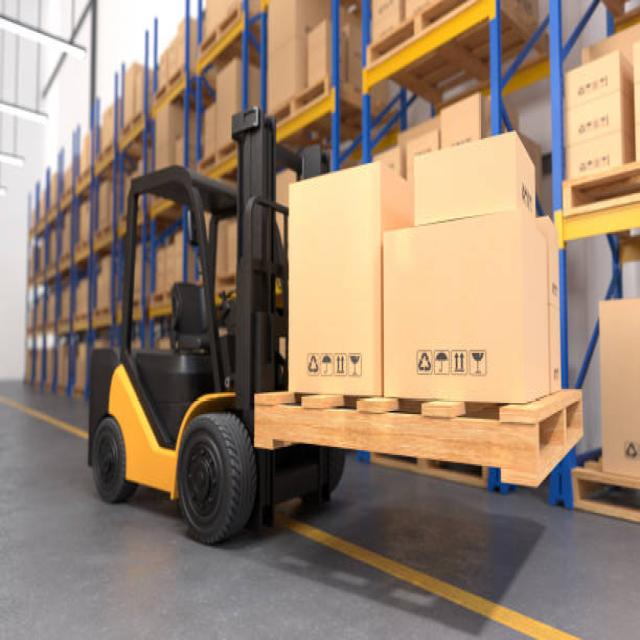Wooden-Pallets: (255, 382, 587, 495), (358, 0, 493, 74)
